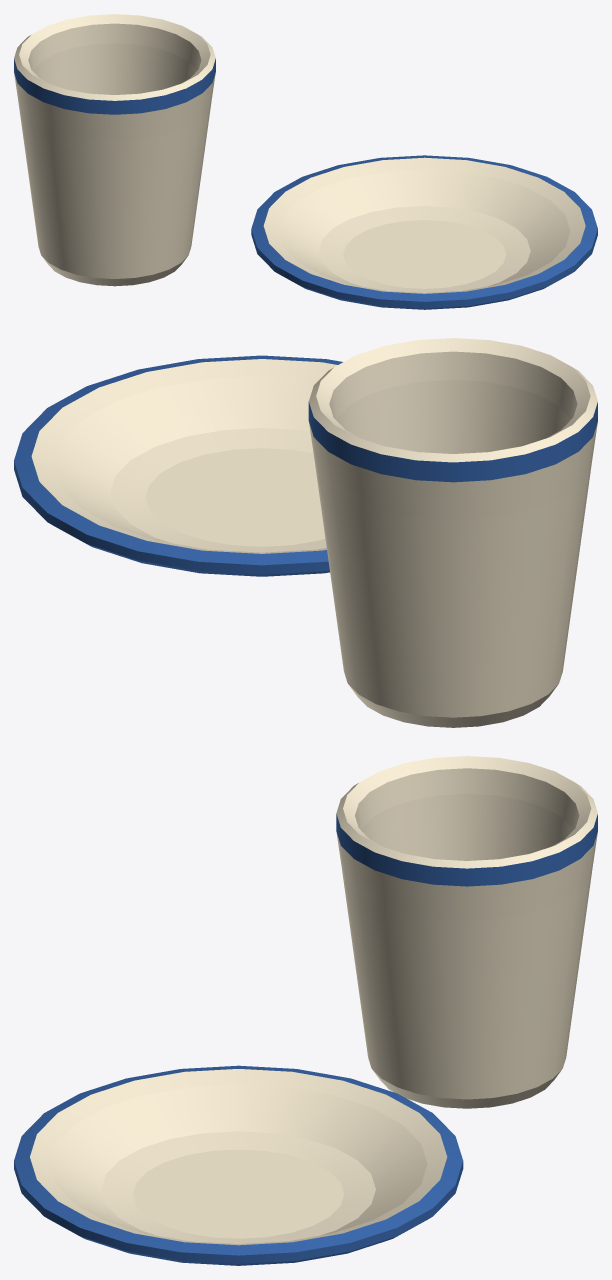
File: cup_and_saucer.gltf
3 renders of one model, top to bottom at view 1: azimuth 30°, elevation 25°; view 2: azimuth 150°, elevation 25°; view 3: azimuth 270°, elevation 25°, orthographic. The views are drawn at different scales.
Parts seen in each view (by area): view 1: HandlelessCup, BlueEdgedSaucer; view 2: HandlelessCup, BlueEdgedSaucer; view 3: HandlelessCup, BlueEdgedSaucer.
Boxes of the visible parts, x1,y1,x2,y2 form: HandlelessCup: [14, 14, 215, 286]; BlueEdgedSaucer: [251, 155, 597, 309]; HandlelessCup: [308, 338, 597, 727]; BlueEdgedSaucer: [14, 355, 342, 576]; HandlelessCup: [336, 756, 597, 1108]; BlueEdgedSaucer: [14, 1065, 463, 1265].
Bounding box in the file's own units: 0.52 × 0.223 × 0.442.
